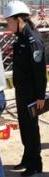boots: (10, 164, 27, 171)
hard-hat: (1, 0, 31, 18)
ppe-suit: (0, 0, 1, 1)
